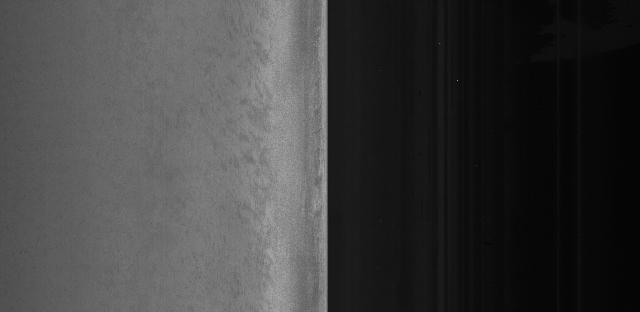silk_spot: (222, 113, 272, 195)
